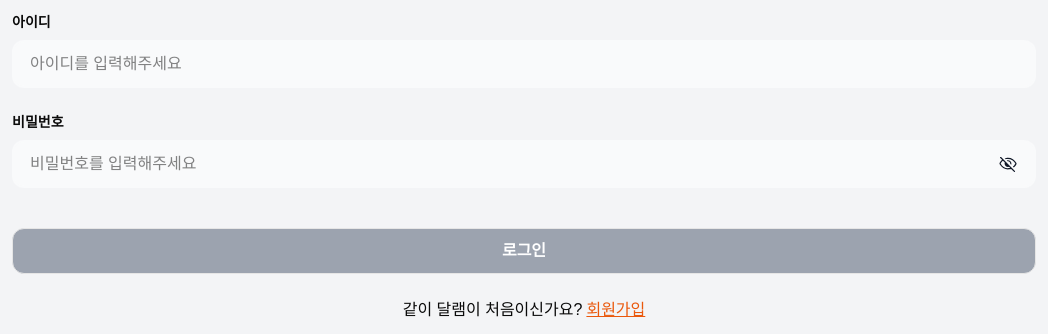
Scenario: SigninForm 통합 테스트 › 정상적으로 입력하면 에러 메시지가 표시되지 않는다 › 모든 필드가 유효하면 폼이 제출된다
Type "viscacha@email.com" into the field labelled "아이디" at (524, 64), box [30, 52, 1018, 76]
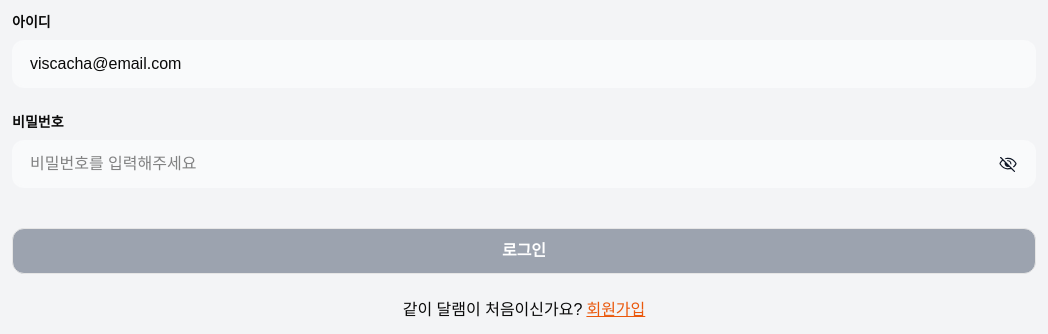
Type "viscacha88" into the password field labelled "비밀번호" at (514, 164), box [30, 152, 998, 176]
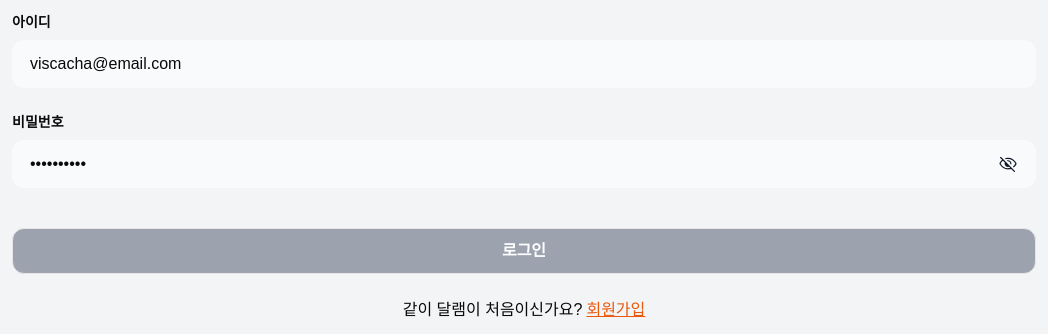
Leave the password field labelled "비밀번호", box [30, 152, 998, 176]
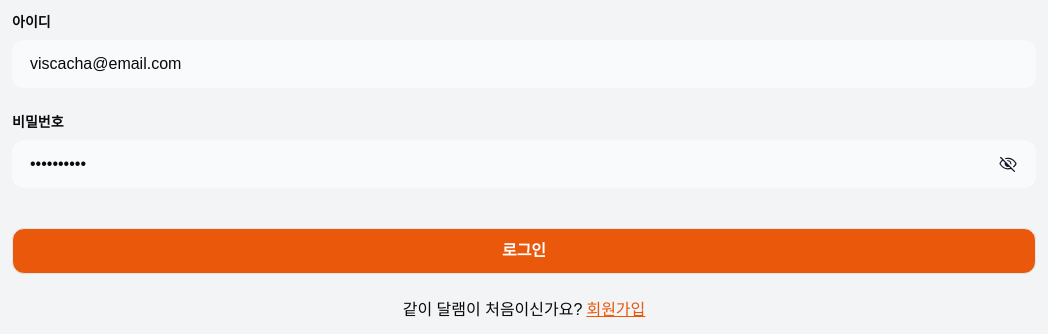
Check: the button with aria-label "로그인 확인" is enabled, box [12, 228, 1036, 274]
